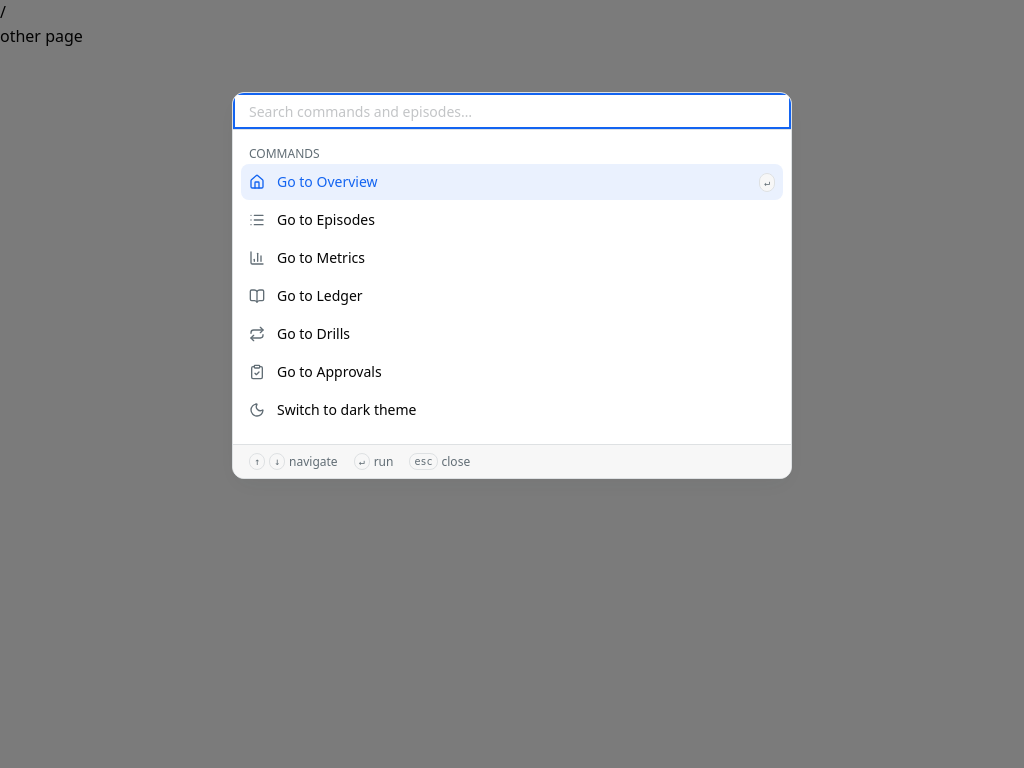
CommandPalette › filters results by query
Type "ledger" into the field with placeholder "Search commands and episodes…" at (512, 111), box [233,93,791,129]
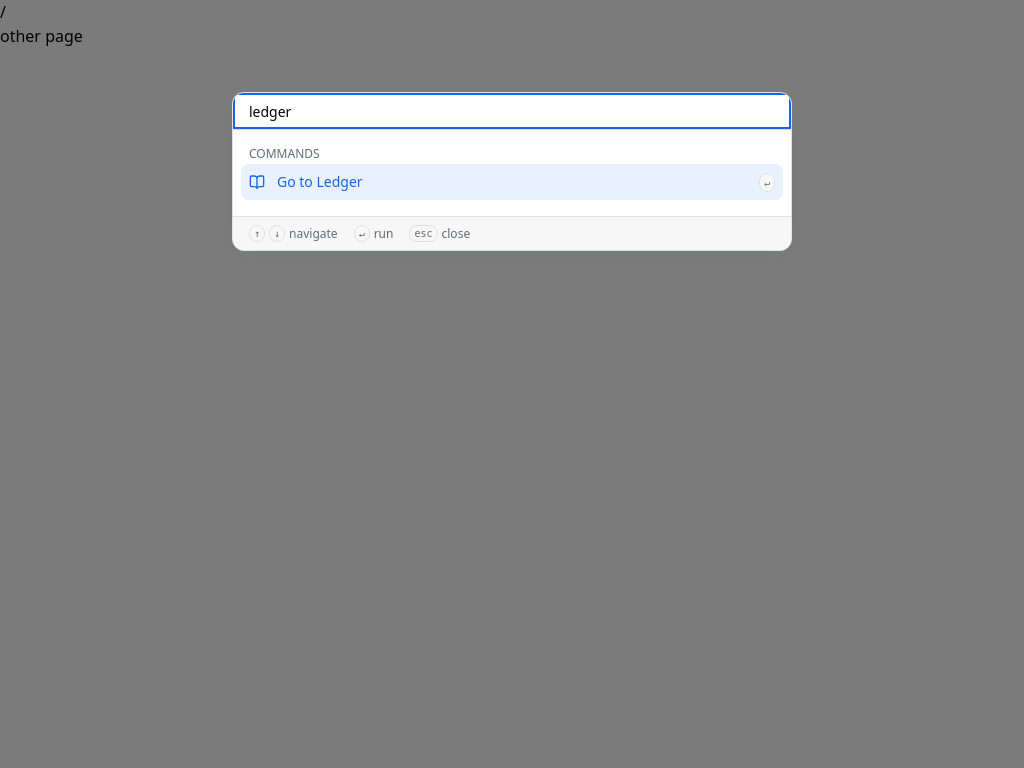
Expected: the text "Go to Ledger" is shown, [277,172,363,191]
Expected: the button "Go to Overview" is gone
